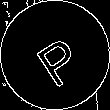P_NW: (25, 24, 85, 86)
